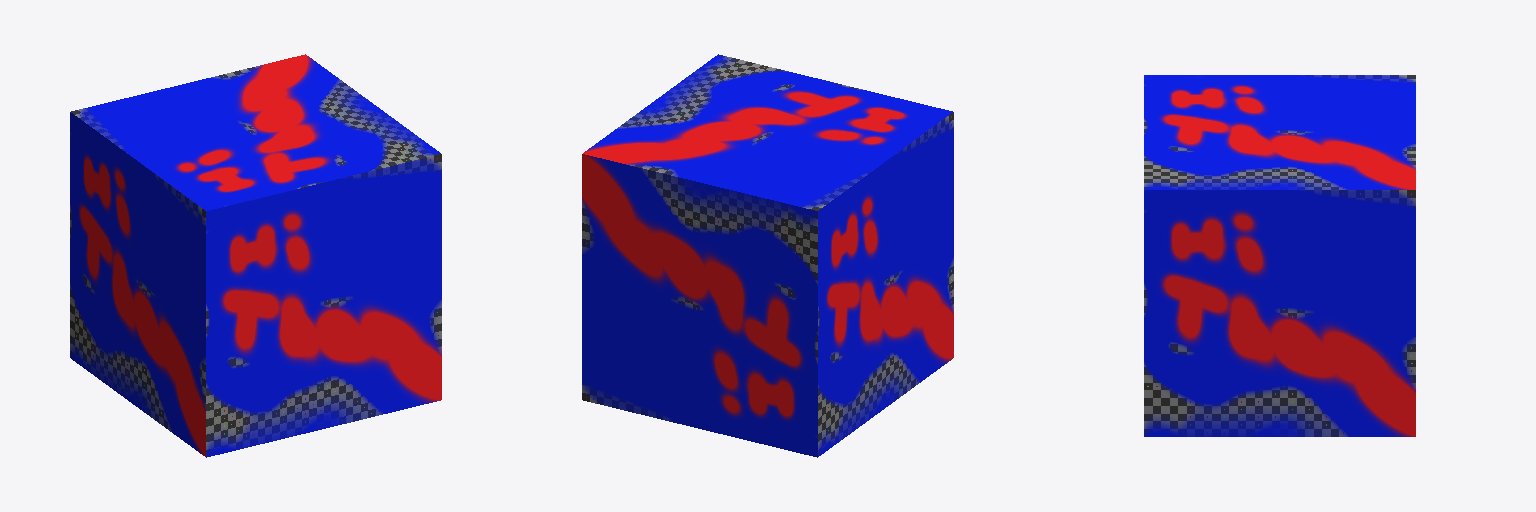
3 views of the same model, side by side, from view 1: azimuth 30°, elevation 25°; view 2: azimuth 150°, elevation 25°; view 3: azimuth 270°, elevation 25° (orthographic).
Visible parts, largest first — view 1: Cube; view 2: Cube; view 3: Cube.
Part boxes in pixels (bbox=[...]): Cube: bbox=[70, 54, 441, 457]; Cube: bbox=[582, 54, 953, 457]; Cube: bbox=[1144, 75, 1415, 436].
Size of the model in its own units: 2 by 2 by 2.
1 materials, 1 textured.